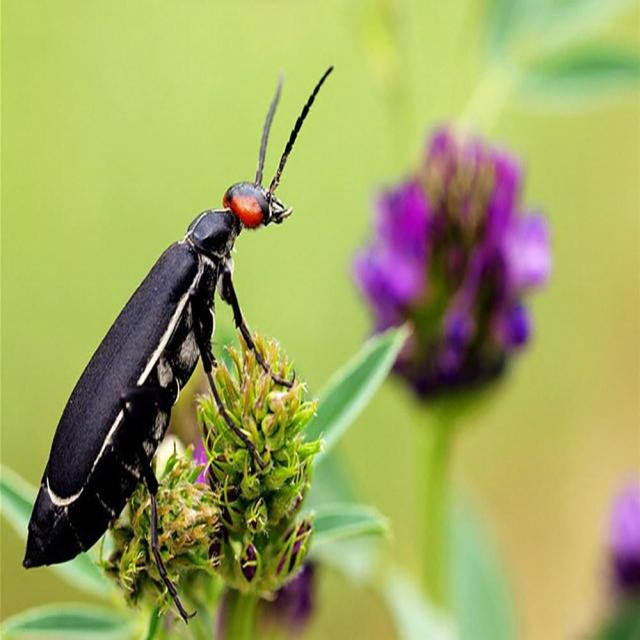BlisterBeetle-Adult-: (20, 52, 343, 624)
